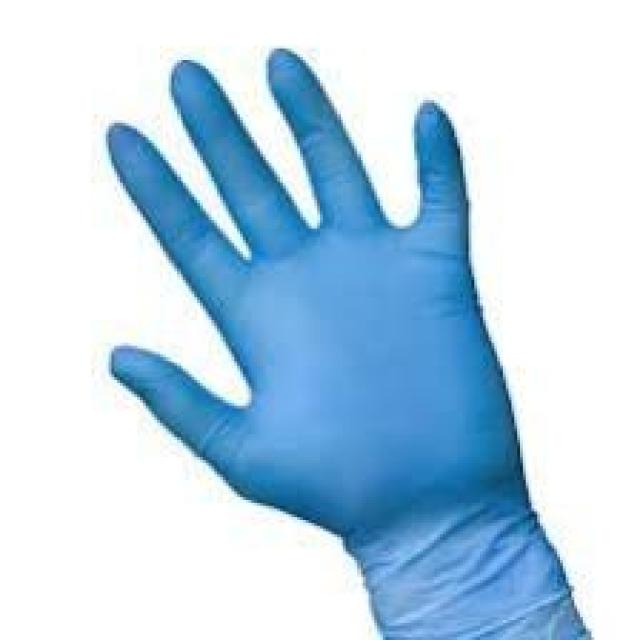Glove: (105, 19, 605, 637)
